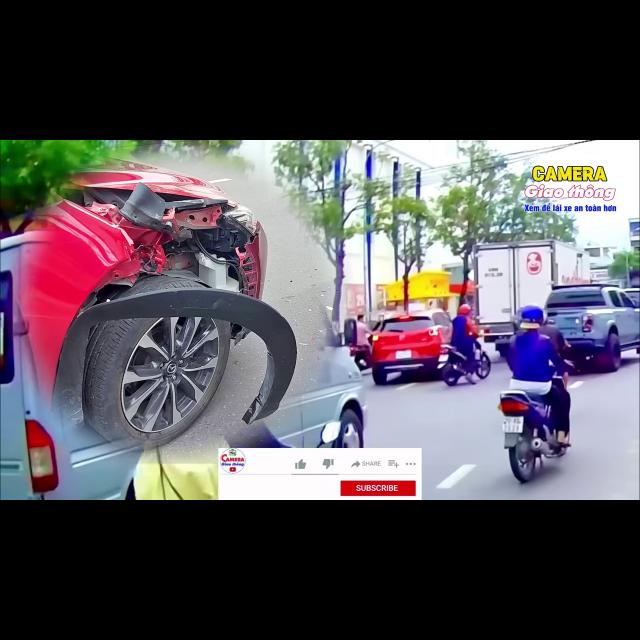car: (20, 159, 296, 444), (0, 233, 141, 499), (227, 335, 366, 447), (545, 284, 639, 371), (371, 309, 452, 384), (624, 288, 639, 305)
motorcycle: (499, 390, 566, 482), (439, 345, 467, 386), (350, 345, 371, 370)
truck: (472, 240, 590, 356)
